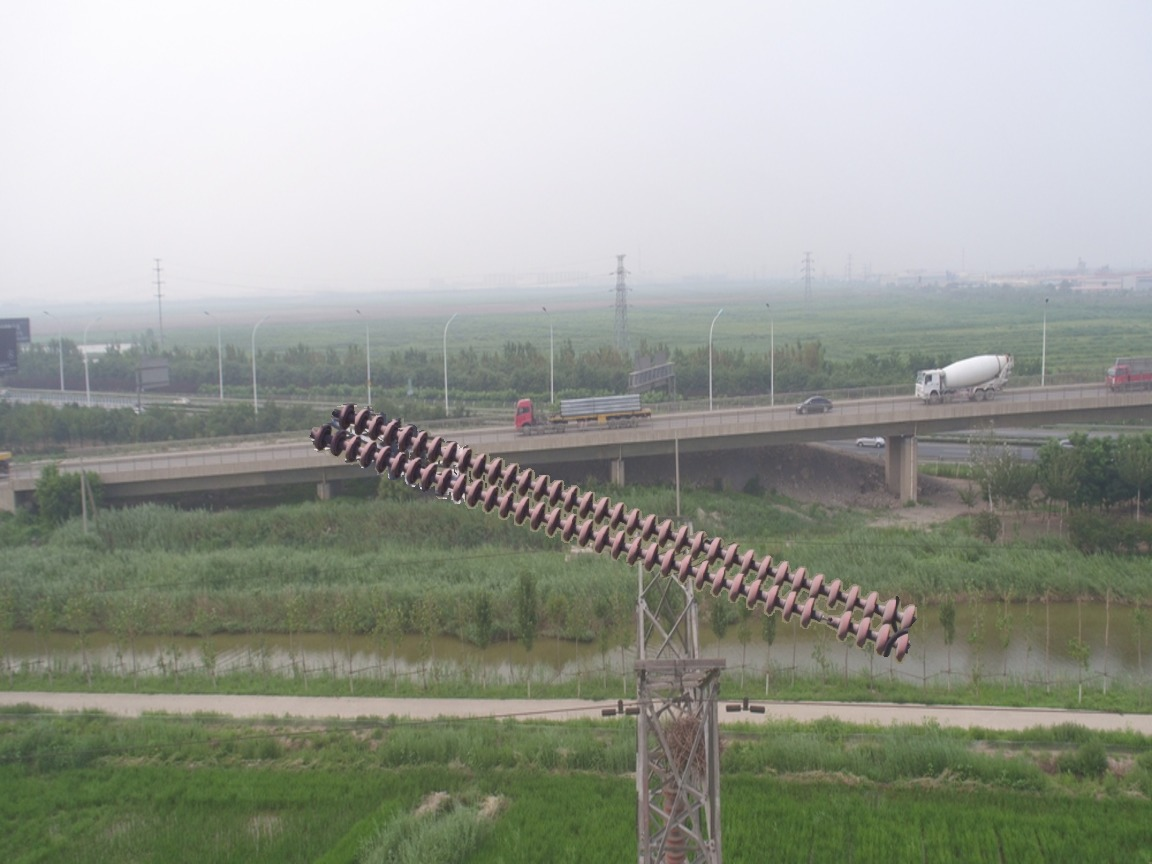defect: (794, 596, 859, 641)
